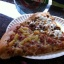pizza: (4, 11, 64, 64)
